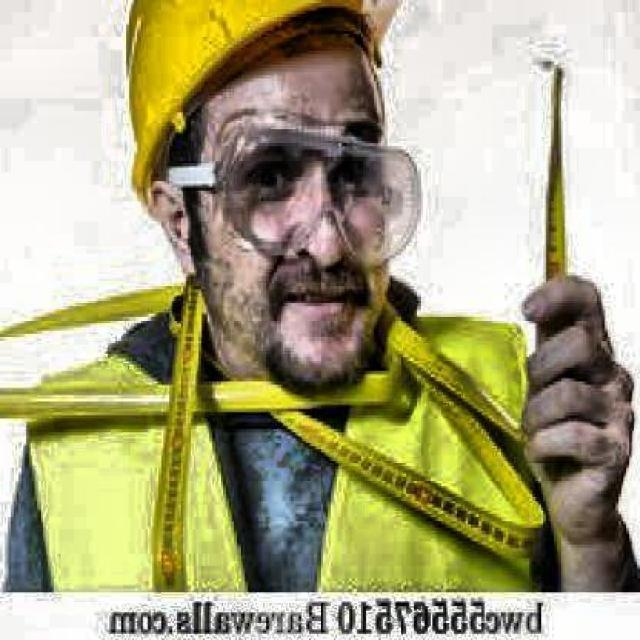Goggles: (148, 118, 441, 271)
